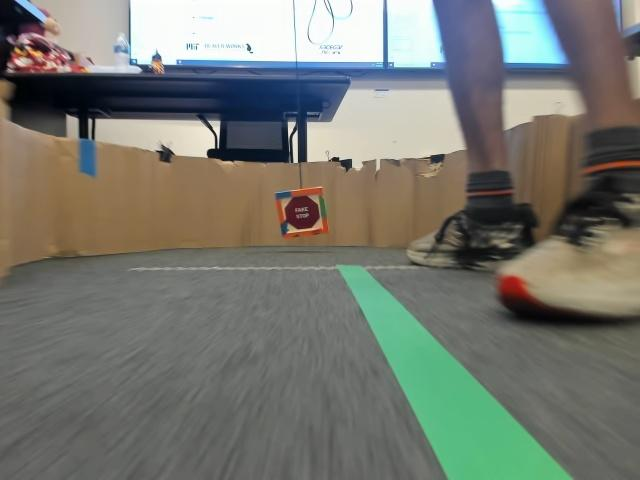Fake Stop: (281, 199, 315, 232)
